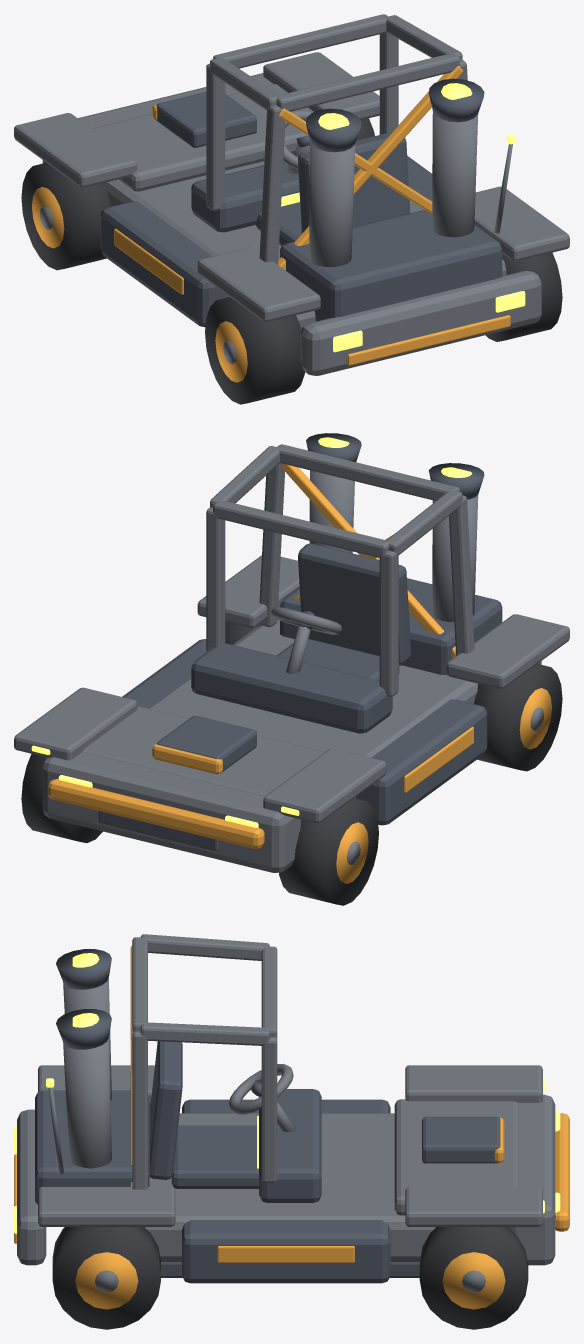
Rendered from kart-b.glb.
The picture shows the model from 3 angles, top to bottom: view 1: azimuth 30°, elevation 25°; view 2: azimuth 150°, elevation 25°; view 3: azimuth 270°, elevation 25°; orthographic projection.
Visible parts, largest first — view 1: rear_deck, rear_bumper, wheel_rl, hood, wheel_fl, pod_l, fender_fl, fender_rl, exhaust_r, exhaust_l, hull, fender_rr (+24 smaller); view 2: nose, dash, hull, seat_back, hood, wheel_fl, pod_l, wheel_rl, fender_rl, fender_fl, fender_fr, ram_bar (+24 smaller); view 3: hull, pod_r, wheel_rr, wheel_fr, hood, rear_deck, fender_fr, fender_rr, exhaust_r, dash, seat_base, fender_fl (+21 smaller).
Boxes of the visible parts, x1,y1,x2,y2 form: rear_deck: (280, 210, 502, 321); rear_bumper: (300, 271, 541, 375); wheel_rl: (205, 297, 304, 404); hood: (92, 84, 313, 191); wheel_fl: (21, 162, 110, 270); pod_l: (100, 201, 229, 327); fender_fl: (14, 113, 137, 187); fender_rl: (197, 247, 320, 321); exhaust_r: (432, 112, 478, 237); exhaust_l: (309, 142, 355, 267); hull: (105, 150, 506, 329); fender_rr: (474, 186, 569, 261); nose: (42, 752, 301, 872); dash: (191, 643, 392, 733); hull: (148, 620, 478, 798); seat_back: (298, 543, 411, 665); hood: (82, 706, 324, 796); wheel_fl: (279, 798, 378, 905); pod_l: (355, 699, 487, 825); wheel_rl: (474, 664, 562, 771); fender_rl: (446, 614, 569, 688); fender_fl: (263, 748, 386, 823); fender_fr: (14, 687, 137, 760); ram_bar: (48, 779, 264, 848); hull: (145, 1113, 435, 1261); pod_r: (182, 1220, 390, 1283); wheel_rr: (52, 1227, 160, 1329); wheel_fr: (419, 1227, 528, 1329); hood: (394, 1099, 518, 1215); rear_deck: (35, 1090, 149, 1204); fender_fr: (405, 1187, 542, 1226); fender_rr: (38, 1187, 175, 1226); exhaust_r: (63, 1039, 111, 1168); dash: (259, 1089, 321, 1202); seat_base: (171, 1125, 258, 1188); fender_fl: (405, 1065, 542, 1102).
Bounding box in the file's own units: 1.71 × 1.46 × 2.66.
